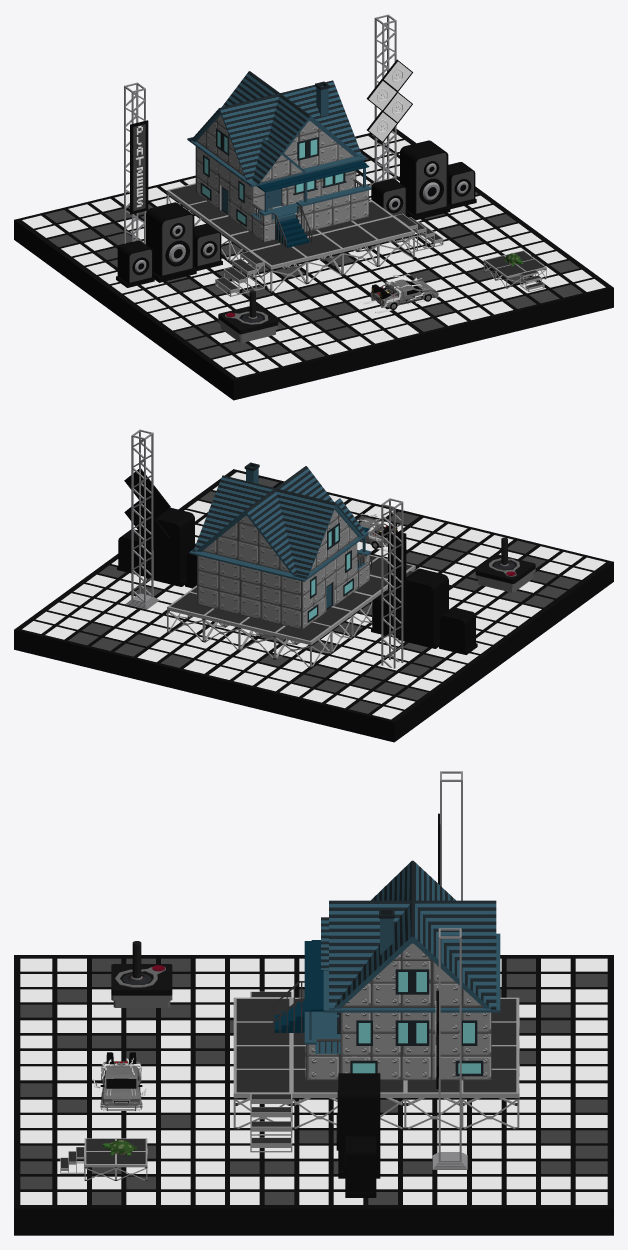
3 renders of one model, top to bottom at view 1: azimuth 30°, elevation 25°; view 2: azimuth 150°, elevation 25°; view 3: azimuth 270°, elevation 25°, orthographic. The views are drawn at different scales.
Parts seen in each view (by area): view 1: Cube.008, Cube.078, OBJRANDOM_JOYSTICK, VEHICLES_DELOREAN; view 2: Cube.008, Cube.078, OBJRANDOM_JOYSTICK, VEHICLES_DELOREAN; view 3: Cube.008, Cube.078, OBJRANDOM_JOYSTICK, VEHICLES_DELOREAN.
Boxes of the visible parts, left/top/right/bottom form: Cube.008: left=14, top=14, right=613, bottom=400; Cube.078: left=187, top=71, right=371, bottom=248; OBJRANDOM_JOYSTICK: left=218, top=290, right=278, bottom=342; VEHICLES_DELOREAN: left=358, top=274, right=438, bottom=313; Cube.008: left=14, top=429, right=613, bottom=742; Cube.078: left=189, top=462, right=372, bottom=629; OBJRANDOM_JOYSTICK: left=475, top=537, right=535, bottom=592; VEHICLES_DELOREAN: left=357, top=513, right=408, bottom=551; Cube.008: left=14, top=771, right=613, bottom=1235; Cube.078: left=272, top=860, right=500, bottom=1080; OBJRANDOM_JOYSTICK: left=111, top=941, right=172, bottom=1007; VEHICLES_DELOREAN: left=92, top=1052, right=146, bottom=1110.
Size of the model in its own units: 4000 by 1995 by 4000.
Materials: 46 (4 with a texture image).
